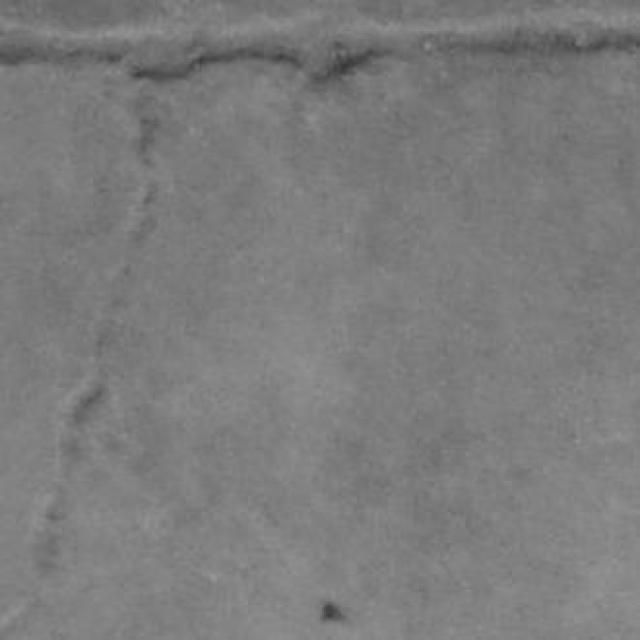crack: (32, 82, 160, 591), (0, 10, 639, 81)
